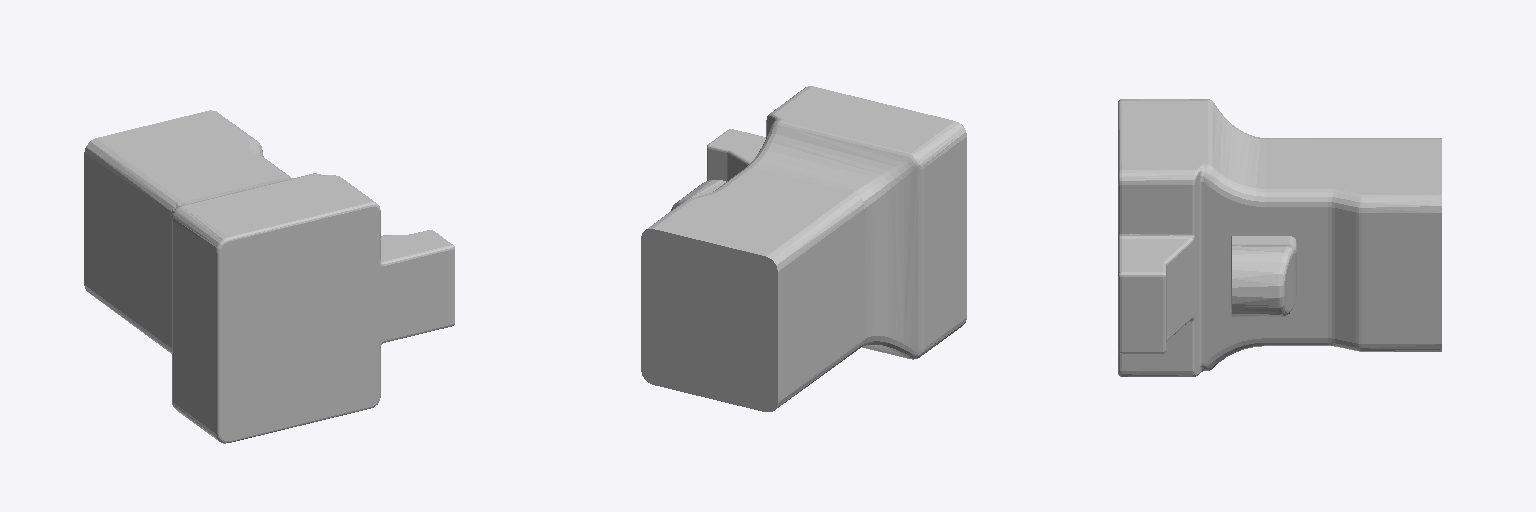
The model's file is torso_lift_with_arm.obj.
The picture shows the model from 3 angles: view 1: azimuth 30°, elevation 25°; view 2: azimuth 150°, elevation 25°; view 3: azimuth 270°, elevation 25°; orthographic projection.
Visible parts, largest first — view 1: <STL_BINARY>; view 2: <STL_BINARY>; view 3: <STL_BINARY>.
Boxes of the visible parts, x1,y1,x2,y2 form: <STL_BINARY>: [84, 110, 454, 443]; <STL_BINARY>: [641, 86, 966, 411]; <STL_BINARY>: [1118, 99, 1441, 376].
Bounding box in the file's own units: 0.401 × 0.33 × 0.47.